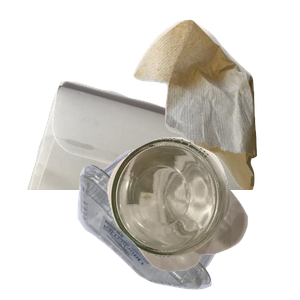glass: (105, 135, 300, 300)
paper: (25, 79, 265, 259)
plastic: (75, 147, 289, 300)
trash: (131, 17, 300, 197)
